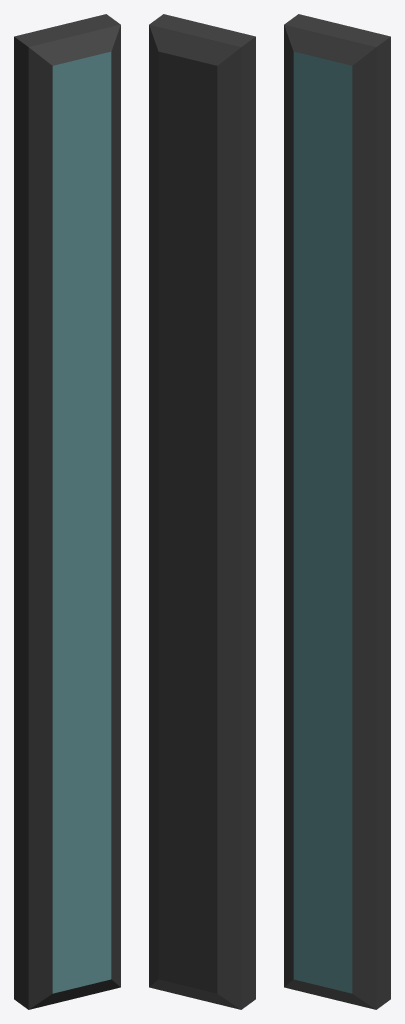
The model's file is Bluelight.fbx.
The picture shows the model from 3 angles, left to right: view 1: azimuth 30°, elevation 25°; view 2: azimuth 150°, elevation 25°; view 3: azimuth 330°, elevation 25°; orthographic projection.
Parts seen in each view (by area): view 1: pCube2; view 2: pCube2; view 3: pCube2.
Boxes of the visible parts, x1,y1,x2,y2 form: pCube2: (14,14,120,1009); pCube2: (149,14,255,1009); pCube2: (284,14,390,1009).
Size of the model in its own units: 0.658 by 6.56 by 0.3591.
